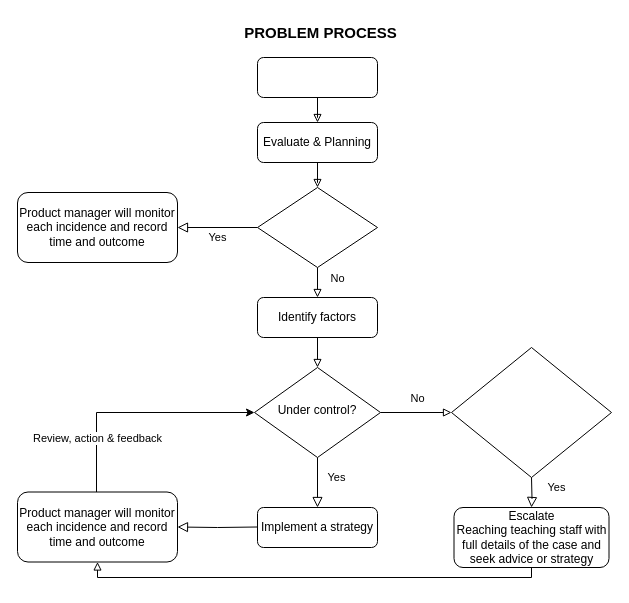
The diagram is 629 pixels wide and 603 high, and some of its shapes have lost their labels. The box of each missing label's shape, as (x1, y1, x2, y2) in pixels:
Have Identified all factor & tried all solutions but still having the problem?: (450, 346, 612, 478)
Identify the problem: (256, 56, 378, 98)
Problem solved?: (256, 186, 378, 268)
